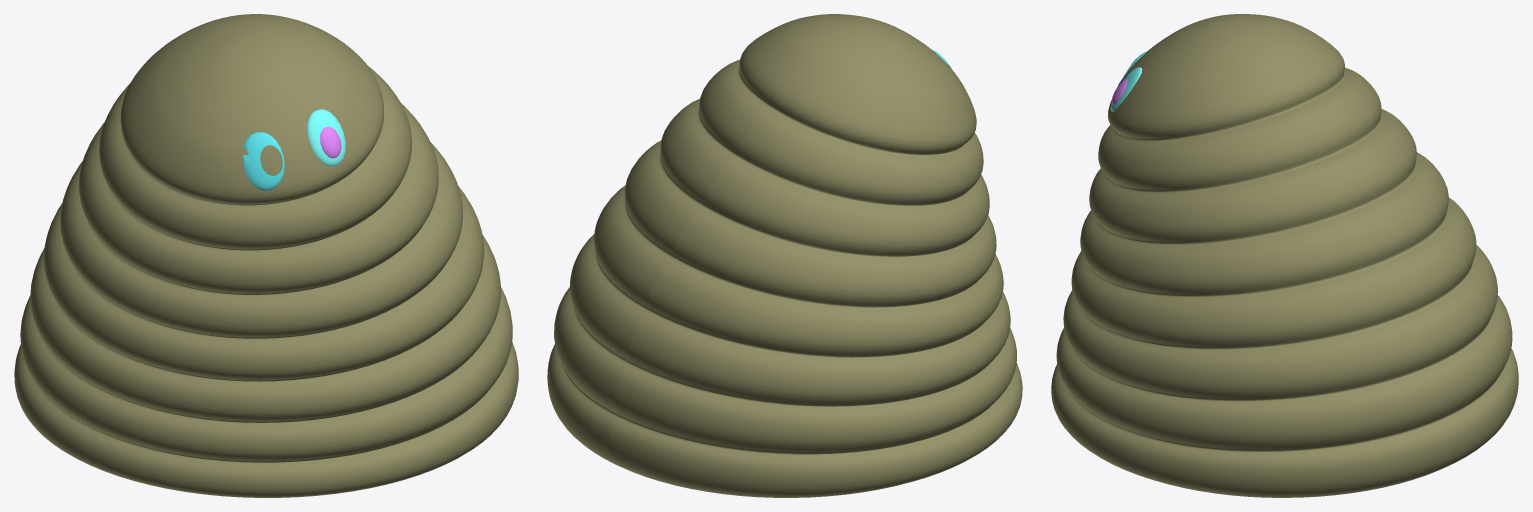
The picture shows the model from 3 angles, left to right: view 1: azimuth 30°, elevation 25°; view 2: azimuth 150°, elevation 25°; view 3: azimuth 270°, elevation 25°; orthographic projection. The views are drawn at different scales.
Parts seen in each view (by area): view 1: split_parent_0, Blobby_white_0, Blobby_white_0.001; view 2: split_parent_0; view 3: split_parent_0.
Boxes of the visible parts, bbox=[...] form: split_parent_0: bbox=[14, 14, 518, 497]; Blobby_white_0: bbox=[243, 132, 284, 190]; Blobby_white_0.001: bbox=[307, 109, 345, 166]; split_parent_0: bbox=[547, 14, 1022, 497]; split_parent_0: bbox=[1051, 14, 1518, 497].
Bounding box in the file's own units: 1 × 0.8777 × 0.9999.
